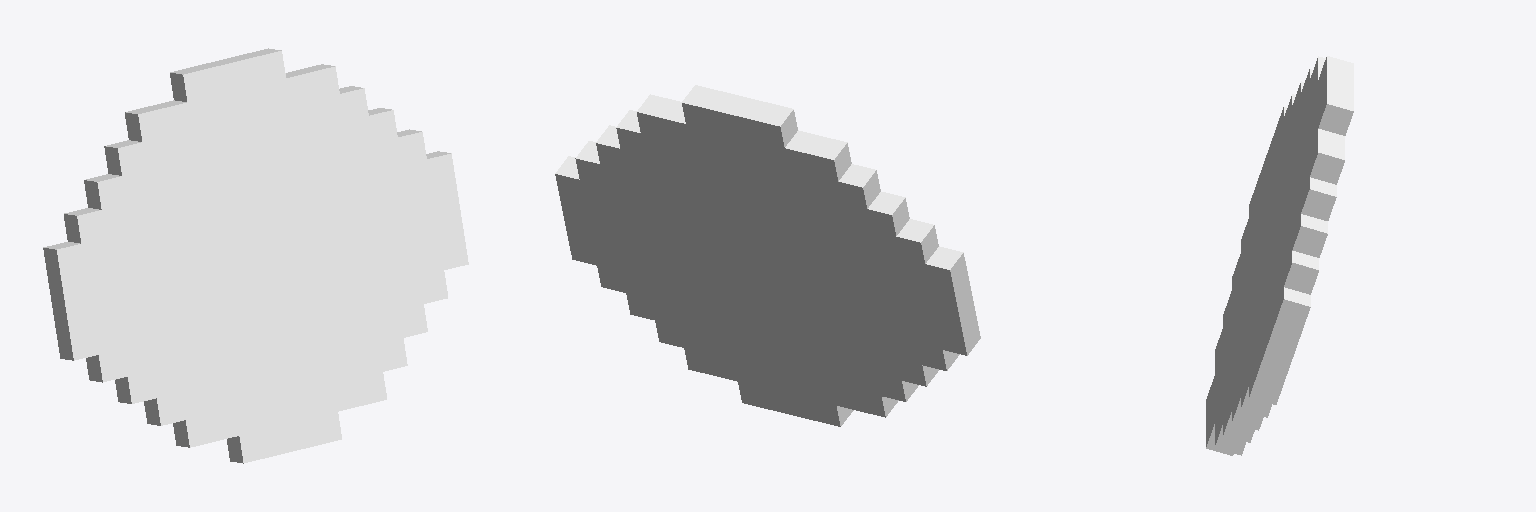
Rendered from altar_eye.obj.
3 views of the same model, side by side, from view 1: azimuth 30°, elevation 25°; view 2: azimuth 150°, elevation 25°; view 3: azimuth 270°, elevation 25° (orthographic).
Parts seen in each view (by area): view 1: eye_1_Cube.003; view 2: eye_1_Cube.003; view 3: eye_1_Cube.003.
Boxes of the visible parts, x1,y1,x2,y2 form: eye_1_Cube.003: [43, 48, 468, 463]; eye_1_Cube.003: [555, 85, 980, 426]; eye_1_Cube.003: [1206, 56, 1353, 455].
Bounding box in the file's own units: 0.5286 × 0.4508 × 0.1716.